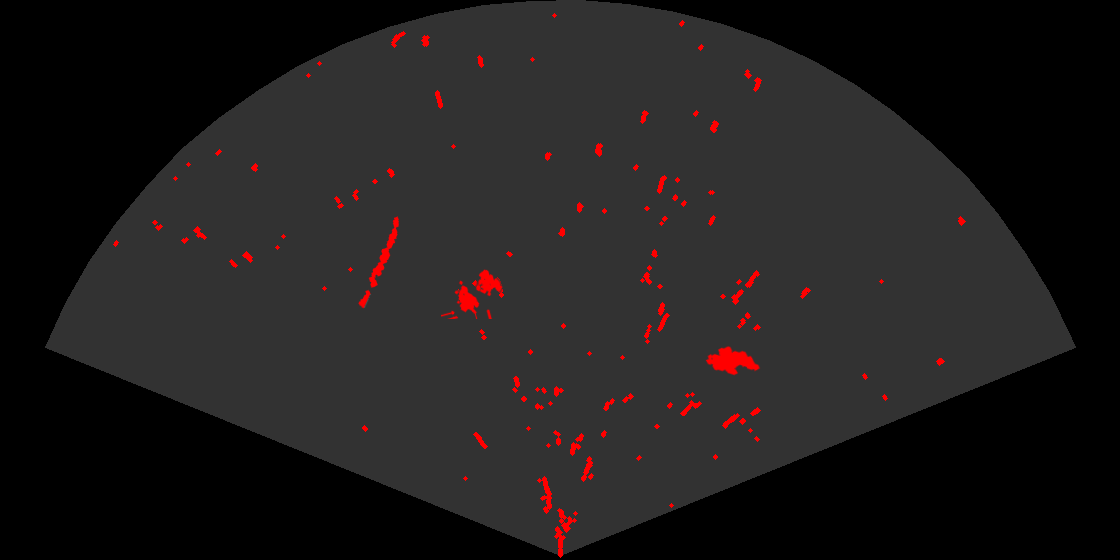AUV: (704, 345, 762, 377)
cage: (441, 268, 504, 319)
chain: (357, 215, 401, 310)
